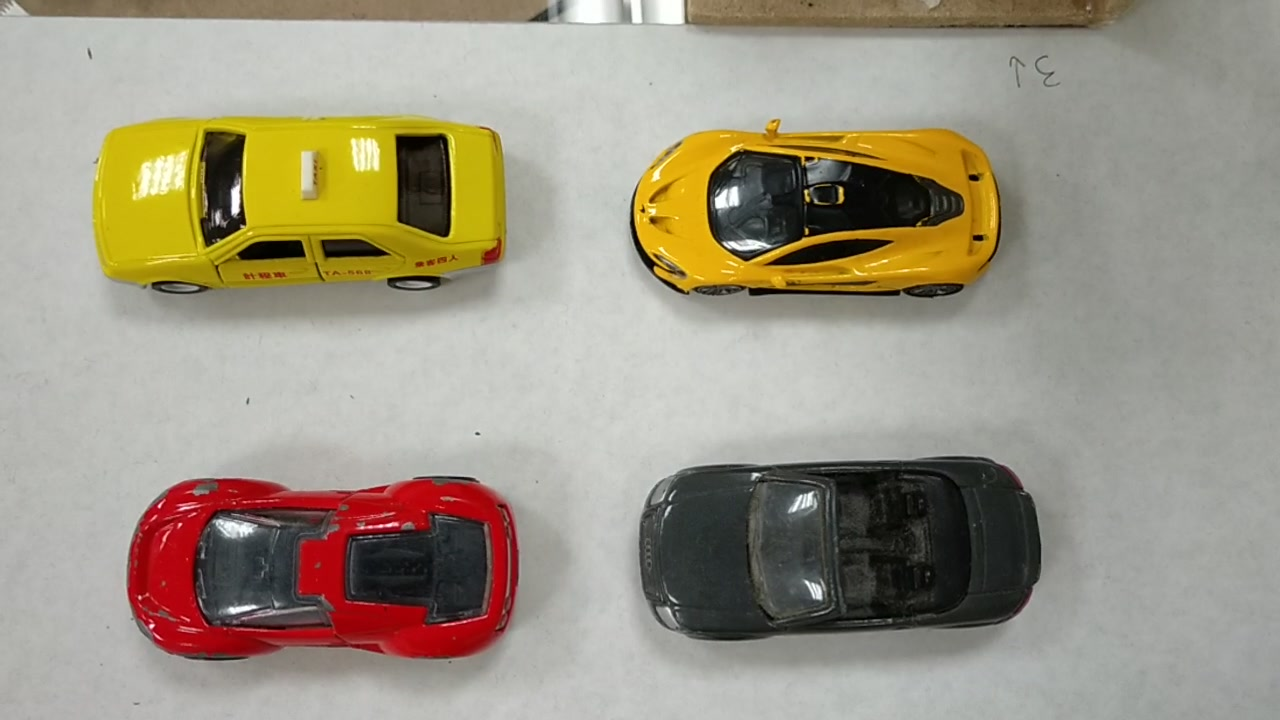car: (82, 115, 513, 304), (635, 462, 1043, 648), (121, 479, 521, 662), (615, 131, 1007, 309)
